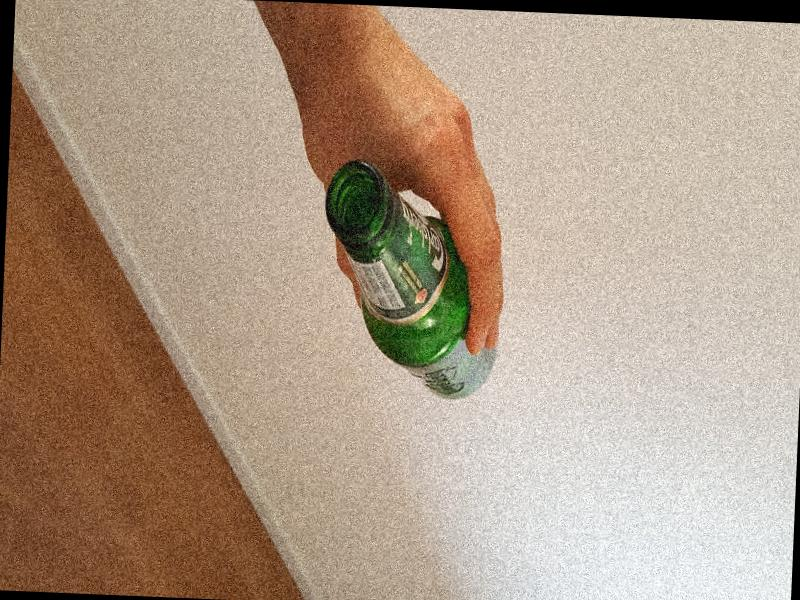Beer: (313, 157, 502, 400)
